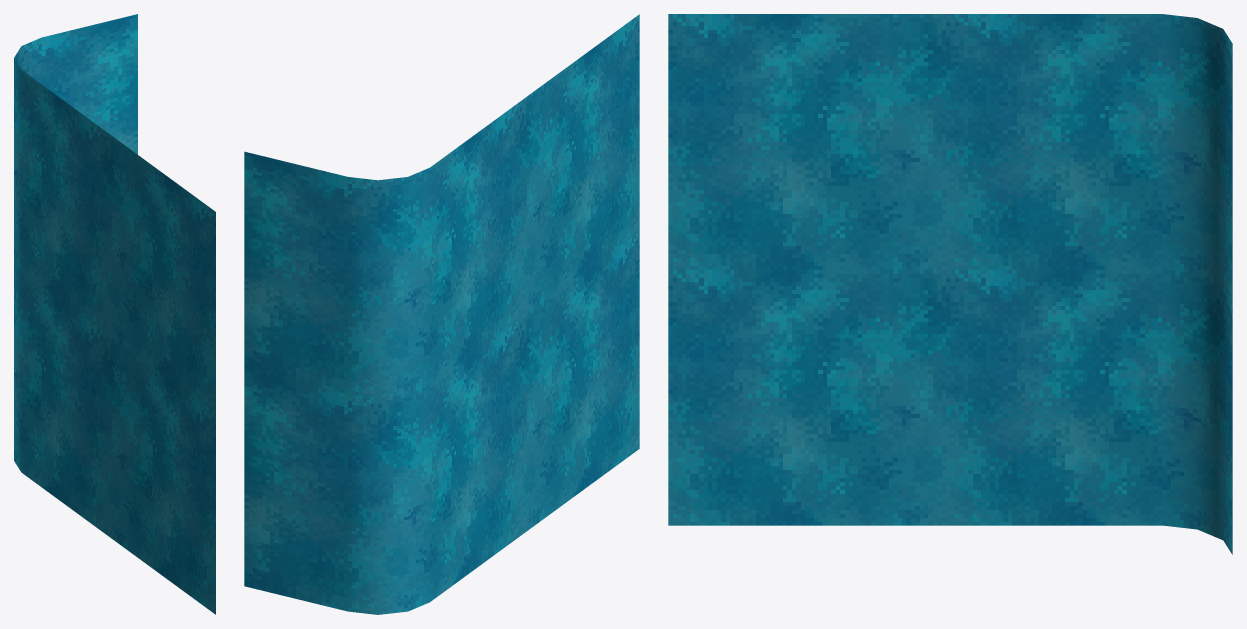
File: Water_Waterfall_Base_Left_1x1.fbx
3 views of the same model, side by side, from view 1: azimuth 30°, elevation 25°; view 2: azimuth 150°, elevation 25°; view 3: azimuth 270°, elevation 25° (orthographic). The views are drawn at different scales.
Visible parts, largest first — view 1: Water_Waterfall_Base_Left_1x1; view 2: Water_Waterfall_Base_Left_1x1; view 3: Water_Waterfall_Base_Left_1x1.
Part boxes in pixels (x1,y1,x2,y2): Water_Waterfall_Base_Left_1x1: (14, 14, 215, 614); Water_Waterfall_Base_Left_1x1: (244, 14, 639, 614); Water_Waterfall_Base_Left_1x1: (668, 14, 1232, 554).
Size of the model in its own units: 75 by 200 by 200.
